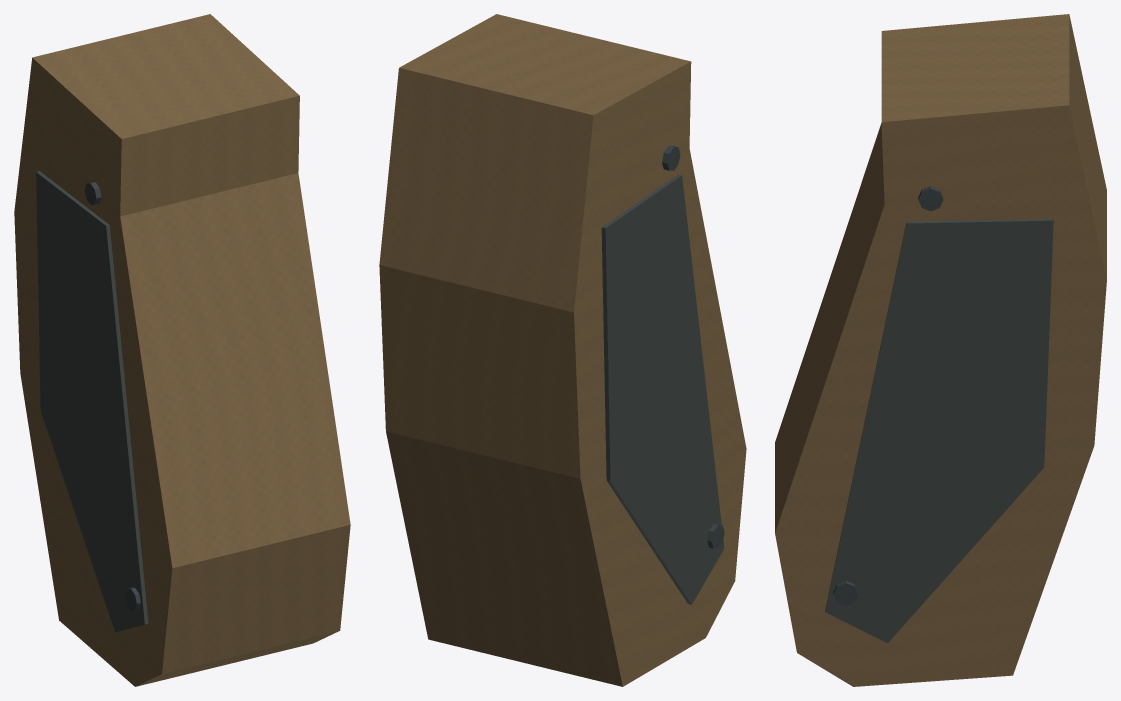
File: m9_grip.glb
3 renders of one model, left to right at view 1: azimuth 30°, elevation 25°; view 2: azimuth 150°, elevation 25°; view 3: azimuth 270°, elevation 25°, orthographic. The views are drawn at different scales.
Visible parts, largest first — view 1: m9_grip_item_profile, m9_grip_item_profile.001, m9_grip_molded_panel, m9_grip_visible_panel_screw; view 2: m9_grip_item_profile, m9_grip_item_profile.001, m9_grip_molded_panel, m9_grip_visible_panel_screw; view 3: m9_grip_item_profile.001, m9_grip_item_profile, m9_grip_molded_panel, m9_grip_visible_panel_screw.
Part boxes in pixels (x1,y1,x2,y2): m9_grip_item_profile: [16, 32, 344, 681]; m9_grip_item_profile.001: [14, 14, 350, 686]; m9_grip_molded_panel: [36, 171, 148, 632]; m9_grip_visible_panel_screw: [84, 182, 140, 610]; m9_grip_item_profile: [386, 18, 735, 675]; m9_grip_item_profile.001: [379, 14, 746, 686]; m9_grip_molded_panel: [601, 174, 724, 604]; m9_grip_visible_panel_screw: [662, 146, 724, 548]; m9_grip_item_profile.001: [775, 14, 1106, 686]; m9_grip_item_profile: [775, 19, 1106, 669]; m9_grip_molded_panel: [825, 218, 1053, 643]; m9_grip_visible_panel_screw: [833, 186, 943, 605].
Bounding box in the file's own units: 0.075 × 0.205 × 0.106.
3 materials, 2 textured.
